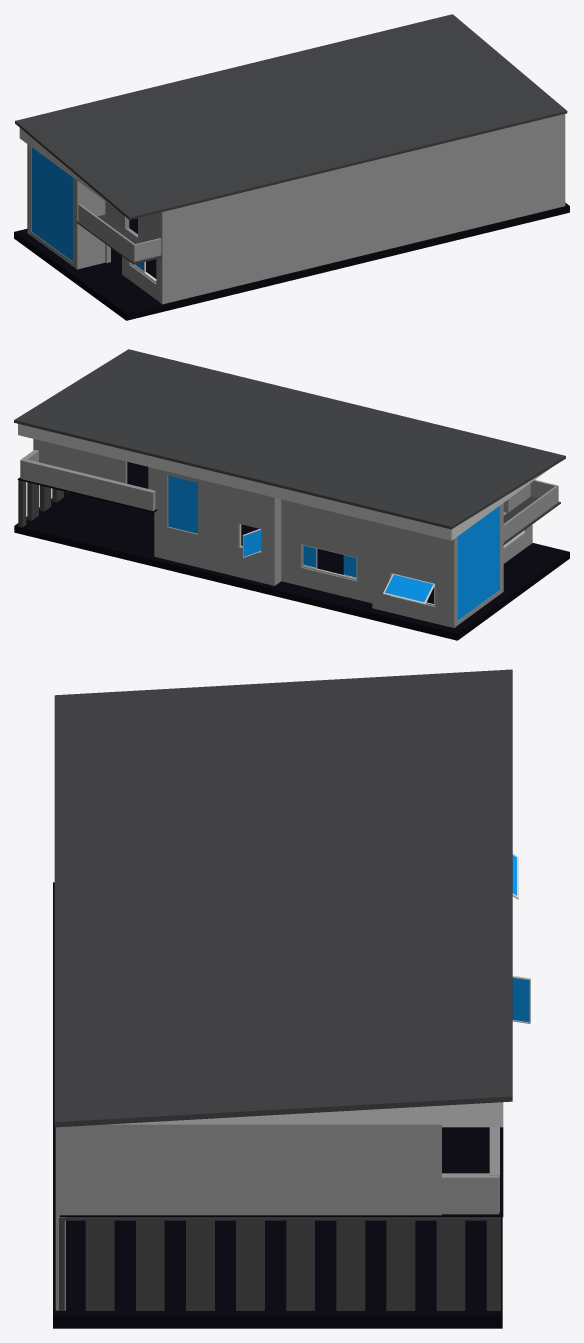
Rendered from animationsCasa .glb.
3 views of the same model, one above another, from view 1: azimuth 30°, elevation 25°; view 2: azimuth 150°, elevation 25°; view 3: azimuth 270°, elevation 25° (orthographic). The views are drawn at different scales.
Visible parts, largest first — view 1: Rectangle 34, Rectangle 14, Rectangle 25, Rectangle 2.004, Rectangle 35, Boolean 8, Rectangle 22, Boolean 10, Rectangle 30, Rectangle 29, Boolean 9, Rectangle 31; view 2: Rectangle 34, Rectangle 2.004, Boolean 2.004, Boolean 4, Boolean 3, Boolean 9, Rectangle 35, Rectangle 28, Boolean 7, vidro, Boolean.008, Rectangle 30 (+7 smaller); view 3: Rectangle 34, Rectangle 24, Rectangle 2.004, Boolean.008, Boolean 9, Rectangle 23, Rectangle 27.
Boxes of the visible parts, x1=… form: Rectangle 34: x1=15, y1=14, x2=567, y2=219; Rectangle 14: x1=159, y1=160, x2=565, y2=304; Rectangle 25: x1=159, y1=114, x2=565, y2=257; Rectangle 2.004: x1=14, y1=203, x2=569, y2=320; Rectangle 35: x1=31, y1=147, x2=72, y2=261; Boolean 8: x1=105, y1=201, x2=159, y2=301; Rectangle 22: x1=81, y1=184, x2=105, y2=268; Boolean 10: x1=30, y1=146, x2=81, y2=269; Rectangle 30: x1=78, y1=204, x2=134, y2=261; Rectangle 29: x1=76, y1=214, x2=162, y2=264; Boolean 9: x1=19, y1=128, x2=115, y2=208; Rectangle 31: x1=133, y1=238, x2=161, y2=261; Rectangle 34: x1=14, y1=349, x2=565, y2=529; Rectangle 2.004: x1=14, y1=491, x2=569, y2=640; Boolean 2.004: x1=156, y1=469, x2=276, y2=585; Boolean 4: x1=372, y1=521, x2=456, y2=627; Boolean 3: x1=281, y1=499, x2=372, y2=603; Boolean 9: x1=18, y1=424, x2=551, y2=540; Rectangle 35: x1=457, y1=506, x2=498, y2=620; Rectangle 28: x1=22, y1=459, x2=155, y2=510; Boolean 7: x1=36, y1=439, x2=154, y2=490; vidro: x1=168, y1=475, x2=197, y2=533; Boolean.008: x1=18, y1=480, x2=69, y2=527; Rectangle 30: x1=503, y1=485, x2=558, y2=541; Rectangle 34: x1=54, y1=669, x2=512, y2=1127; Rectangle 24: x1=59, y1=1124, x2=441, y2=1216; Rectangle 2.004: x1=53, y1=882, x2=502, y2=1328; Boolean.008: x1=59, y1=1217, x2=500, y2=1310; Boolean 9: x1=107, y1=1102, x2=503, y2=1127; Rectangle 23: x1=59, y1=1127, x2=503, y2=1217; Rectangle 27: x1=442, y1=1173, x2=499, y2=1214.
Size of the model in its own units: 618 by 153 by 288.
